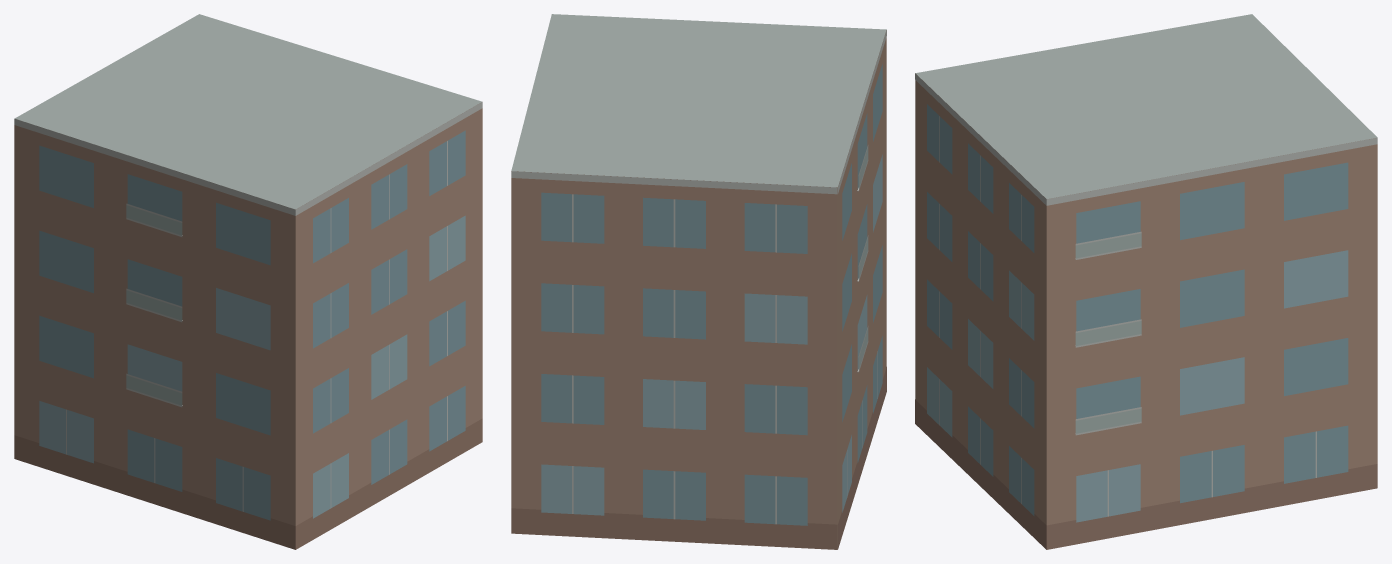
File: survey-upis-32945419.glb
3 renders of one model, left to right at view 1: azimuth 30°, elevation 25°; view 2: azimuth 150°, elevation 25°; view 3: azimuth 270°, elevation 25°, orthographic. The views are drawn at different scales.
Parts seen in each view (by area): view 1: survey-upis-32945419.tmp; view 2: survey-upis-32945419.tmp; view 3: survey-upis-32945419.tmp.
Part boxes in pixels (box(x1,y1,x2,y2)): survey-upis-32945419.tmp: box(14, 14, 482, 549); survey-upis-32945419.tmp: box(511, 14, 886, 549); survey-upis-32945419.tmp: box(915, 14, 1377, 549).
Size of the model in its own units: 14.62 by 12.9 by 15.43.
